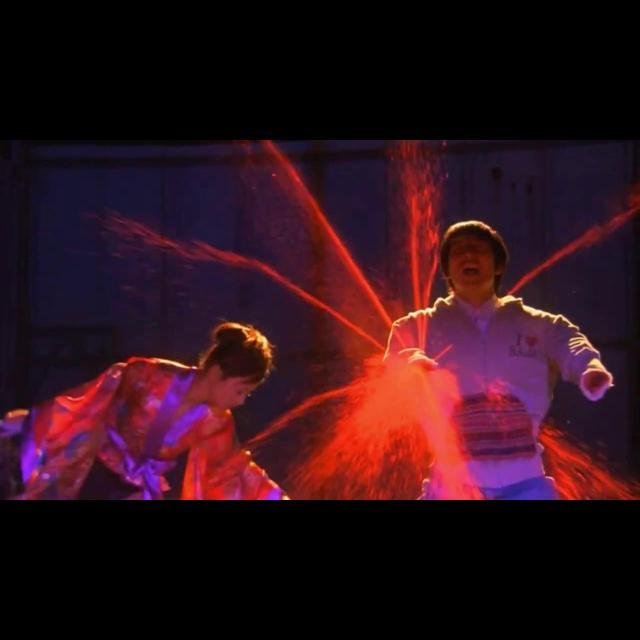blood: (5, 309, 640, 500), (99, 141, 392, 351), (444, 184, 640, 332), (400, 142, 444, 308)
